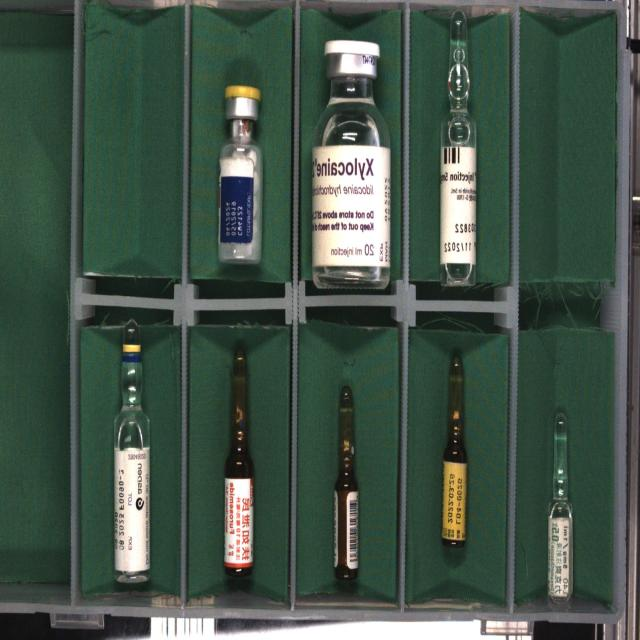Vials: (312, 40, 391, 289), (218, 85, 263, 264)
